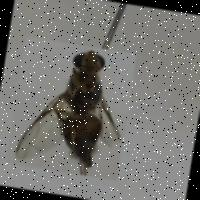Oriental-fruit-fly: (6, 36, 138, 180)
